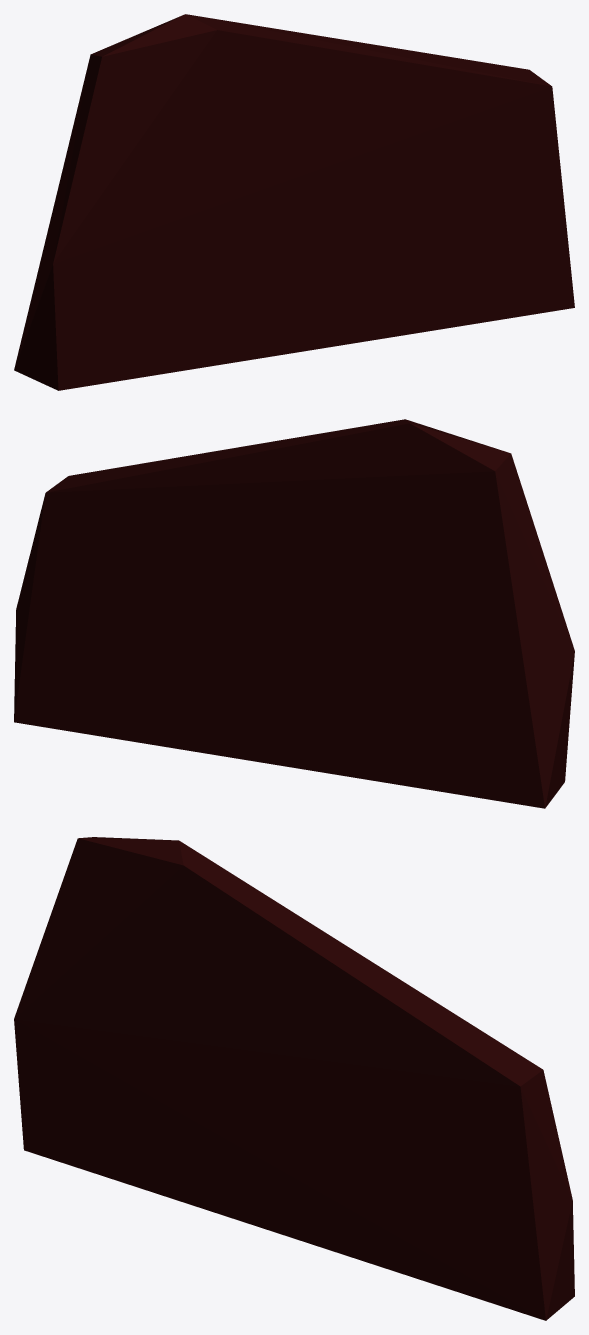
File: UCX_Castle_Wall_G_ALT.fbx
The picture shows the model from 3 angles, top to bottom: view 1: azimuth 30°, elevation 25°; view 2: azimuth 150°, elevation 25°; view 3: azimuth 330°, elevation 25°; orthographic projection.
Parts seen in each view (by area): view 1: UCX_Castle_Wall_G_ALT; view 2: UCX_Castle_Wall_G_ALT; view 3: UCX_Castle_Wall_G_ALT.
Boxes of the visible parts, <box> form: UCX_Castle_Wall_G_ALT: <box>14,14,574,390</box>; UCX_Castle_Wall_G_ALT: <box>14,419,574,808</box>; UCX_Castle_Wall_G_ALT: <box>14,837,574,1320</box>.
Bounding box in the file's own units: 854 × 575 × 95.13.
